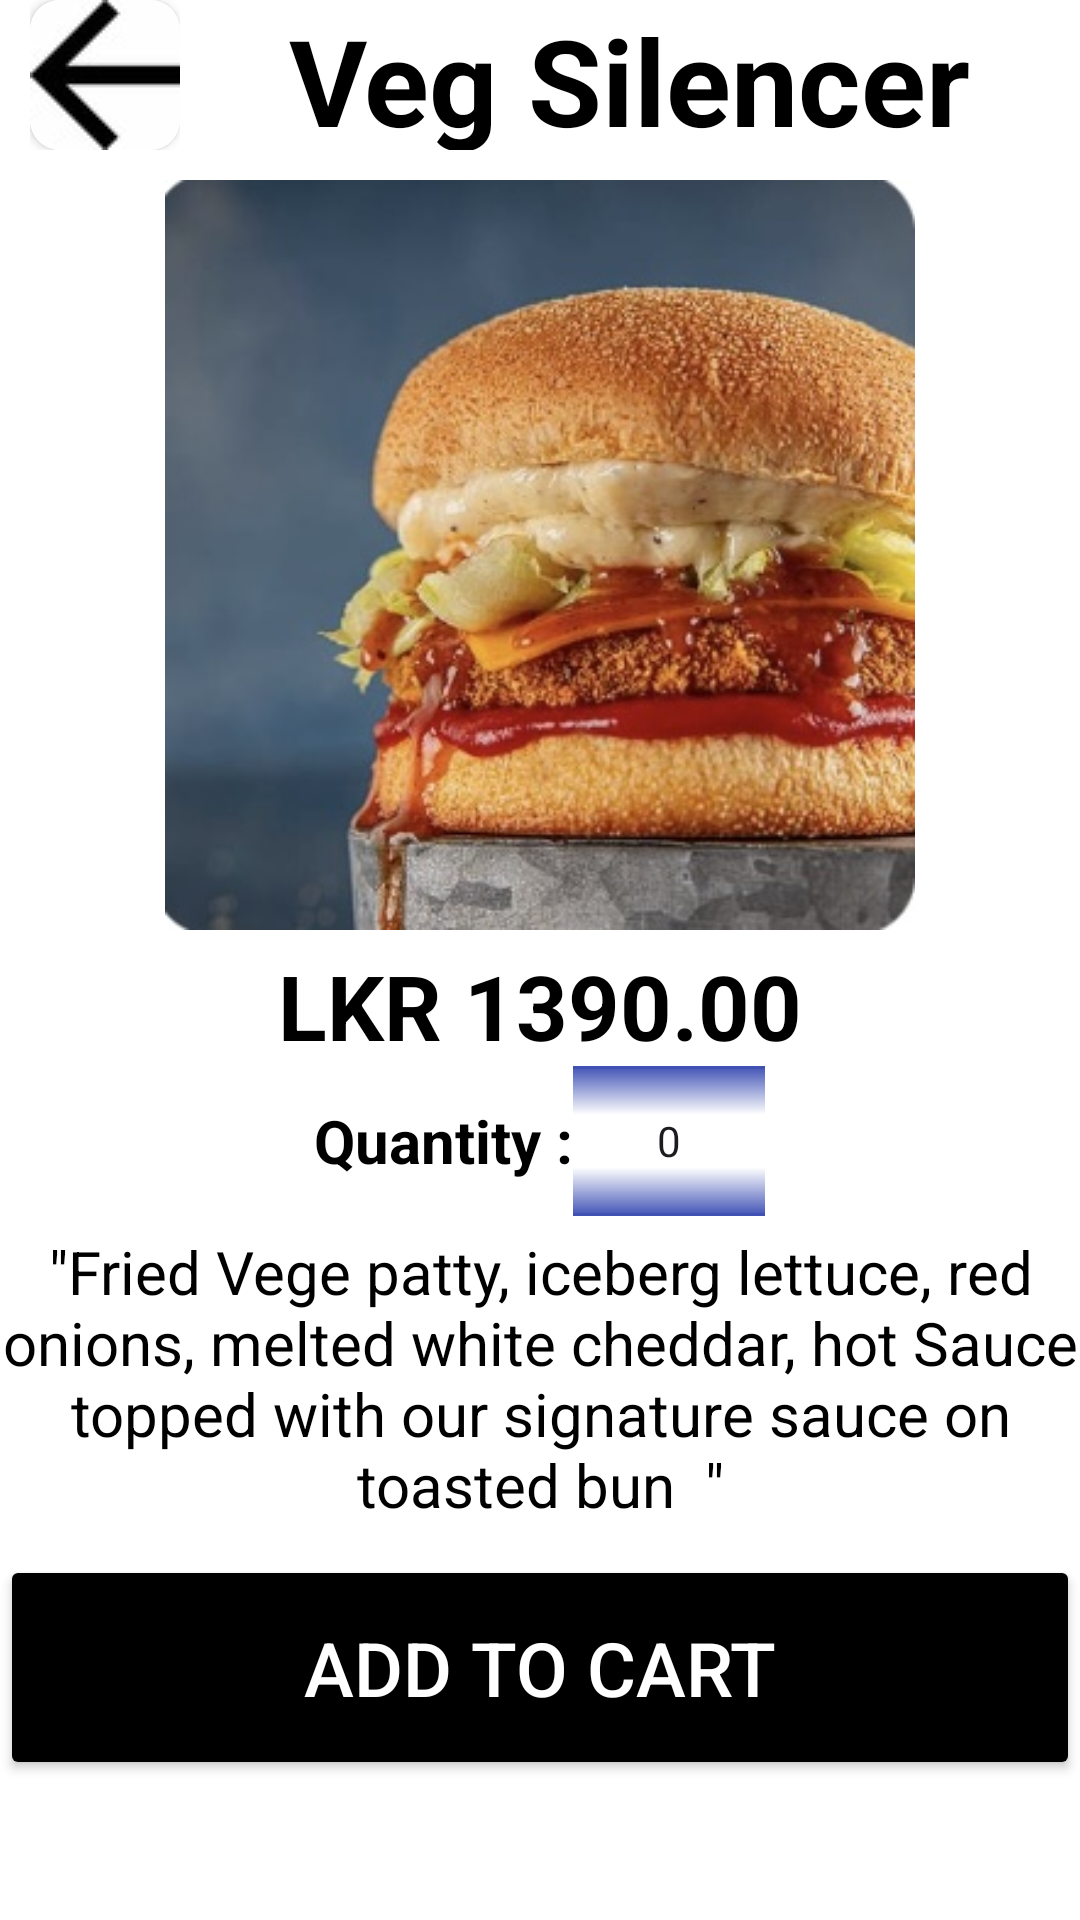

Screen size 1080x1920. Icon name, then its center in pixels as (x=x, y=y):
back: (x=105, y=75)
